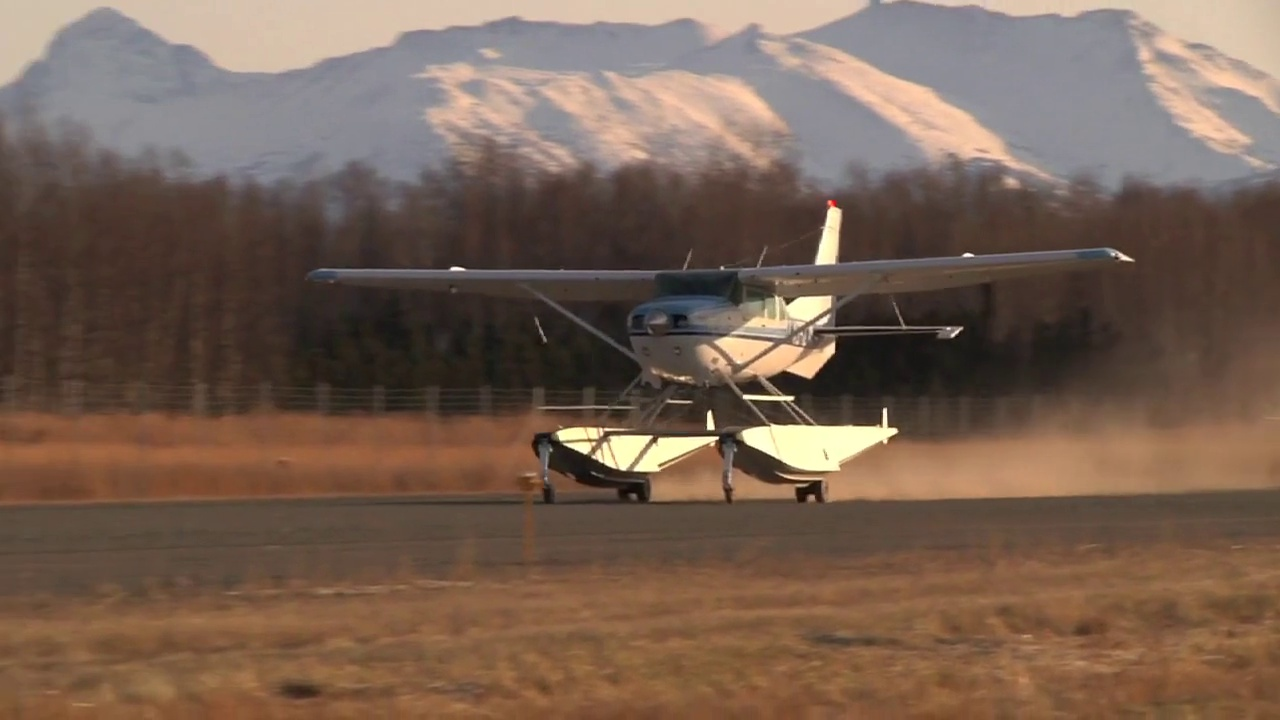plane: (307, 201, 1137, 502)
